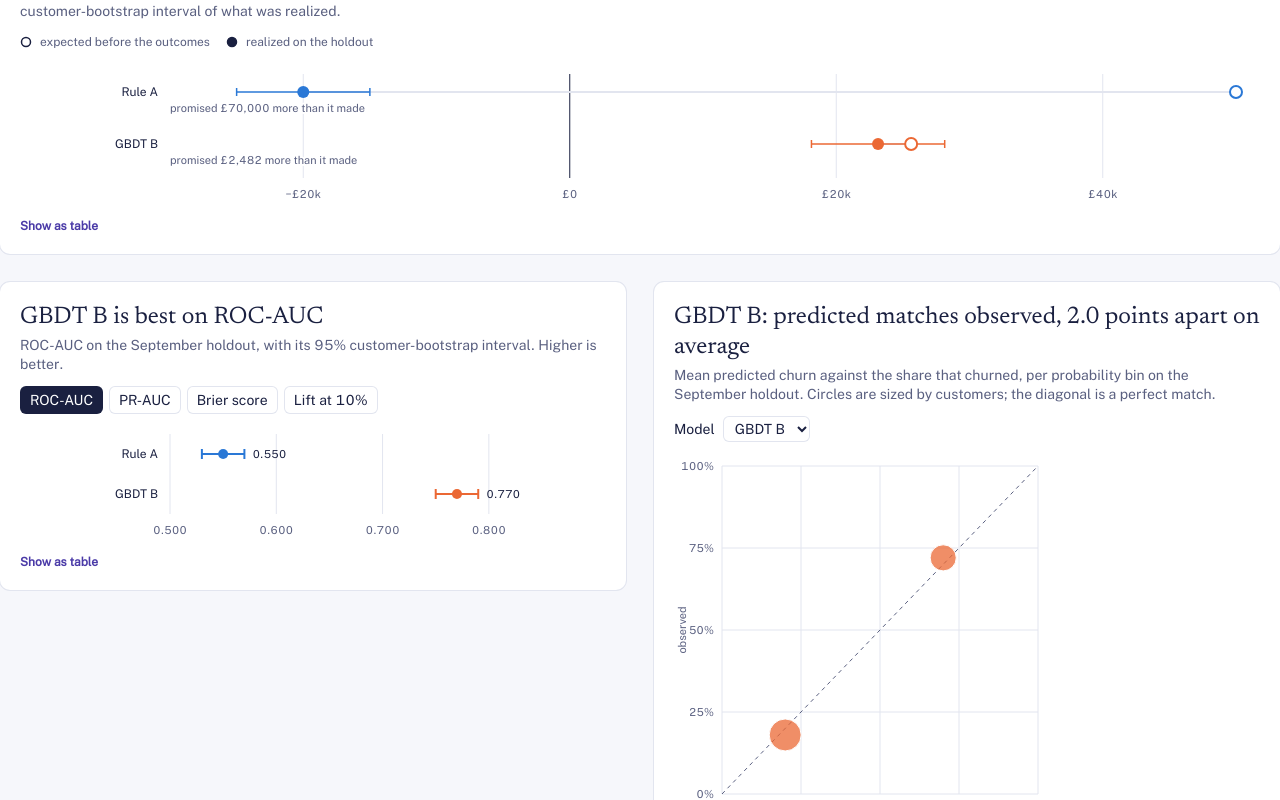
the ranking chart shows intervals, and the metric toggle re-titles it
(page scrolled)
Check: the element "GBDT B is best on ROC-AUC" is shown, box [0,282,626,590]
Click the radio button labelled "Brier score".
click(232, 400)  # box [187,386,278,414]
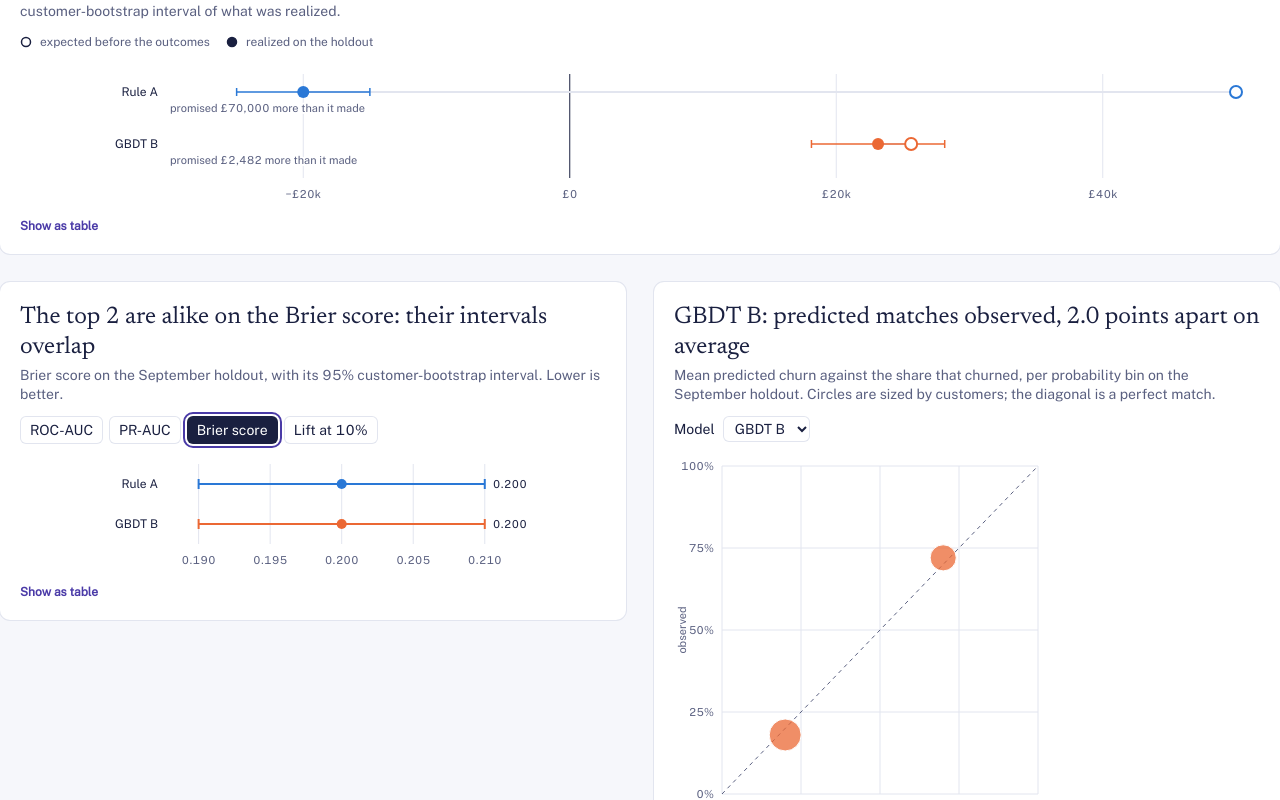
Check: the element "The top 2 are alike on the Brier score: their intervals overlap" shows "Lower is better.", box [20,367,600,402]
Click the button "Show as table" below "0.190".
click(59, 592)  # box [20,584,98,600]
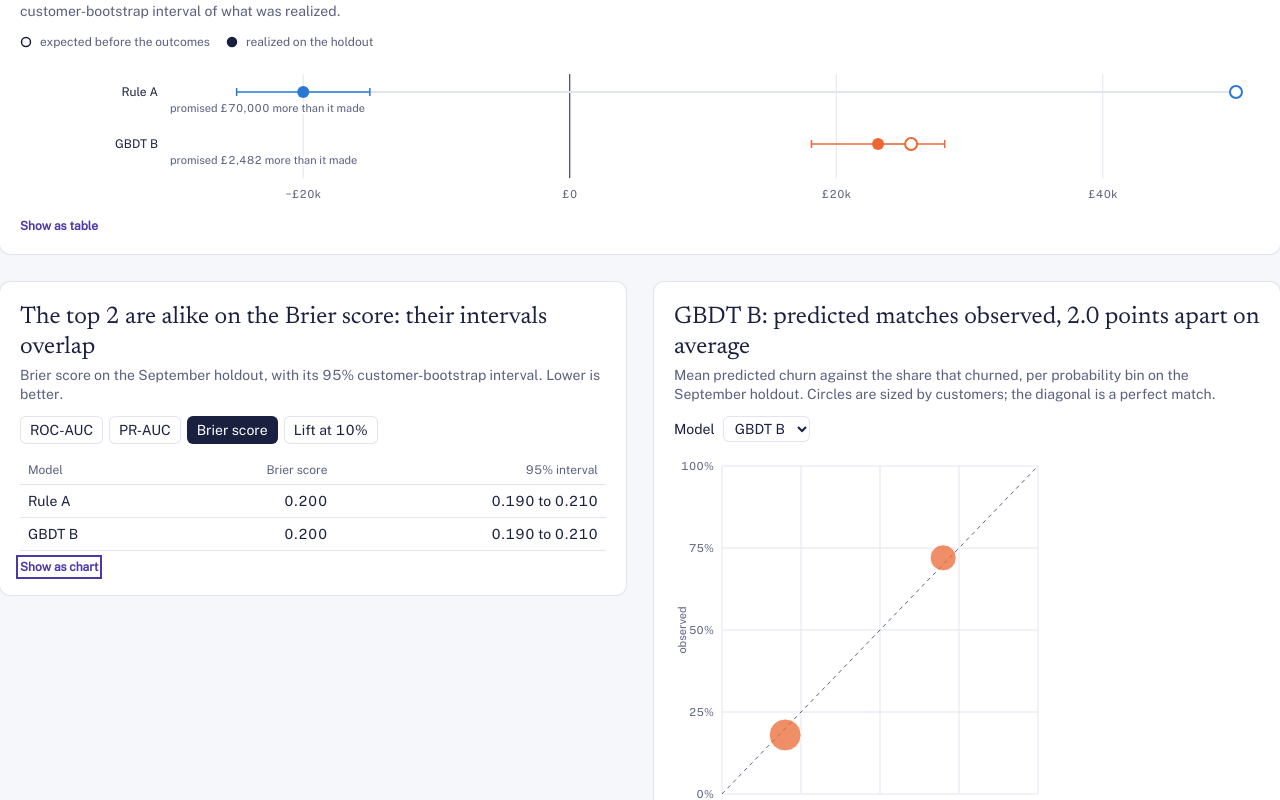
Check: the row "GBDT B 0.200 0.190 to 0.210" is shown, box [20,518,606,551]
